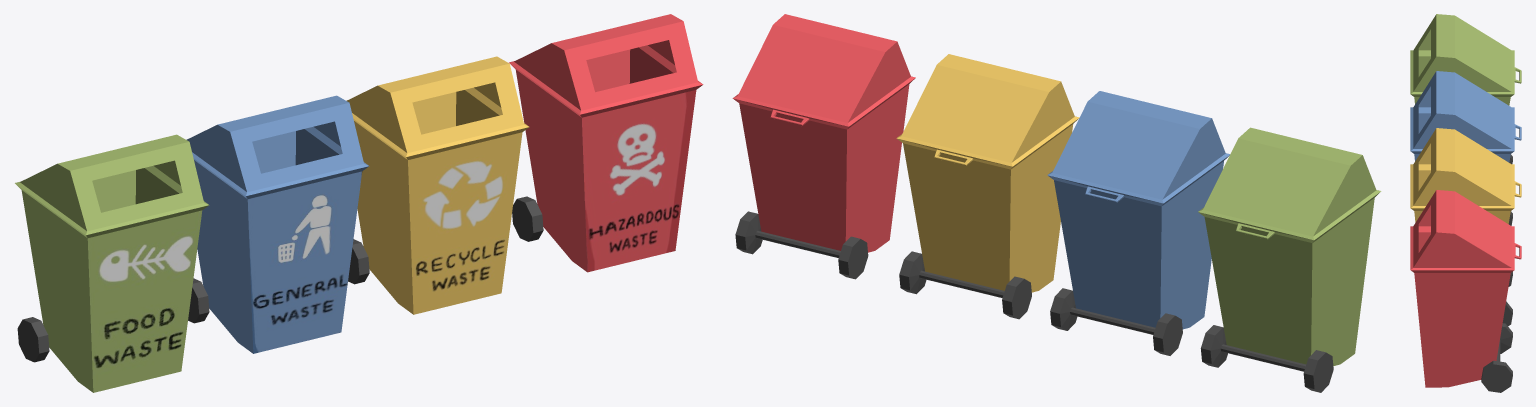
File: trashcans.fbx
3 renders of one model, left to right at view 1: azimuth 30°, elevation 25°; view 2: azimuth 150°, elevation 25°; view 3: azimuth 270°, elevation 25°, orthographic. The views are drawn at different scales.
Visible parts, largest first — view 1: green, Red, yellow, blue; view 2: green, Red, yellow, blue; view 3: Red, yellow, blue, green.
Part boxes in pixels (x1,y1,x2,y2): green: (15, 134, 208, 392); Red: (509, 14, 703, 272); yellow: (346, 56, 529, 314); blue: (186, 95, 368, 353); green: (1198, 127, 1381, 392); Red: (732, 14, 915, 279); yellow: (896, 54, 1079, 319); blue: (1047, 91, 1229, 355); Red: (1410, 190, 1521, 392); yellow: (1410, 128, 1521, 326); blue: (1410, 71, 1521, 225); green: (1410, 14, 1521, 164).
Size of the model in its own units: 1034 by 353 by 221.
4 materials, 4 textured.
